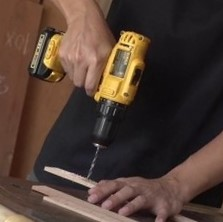driller: (26, 25, 153, 181)
